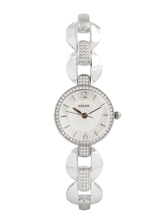watch: (46, 12, 130, 209)
